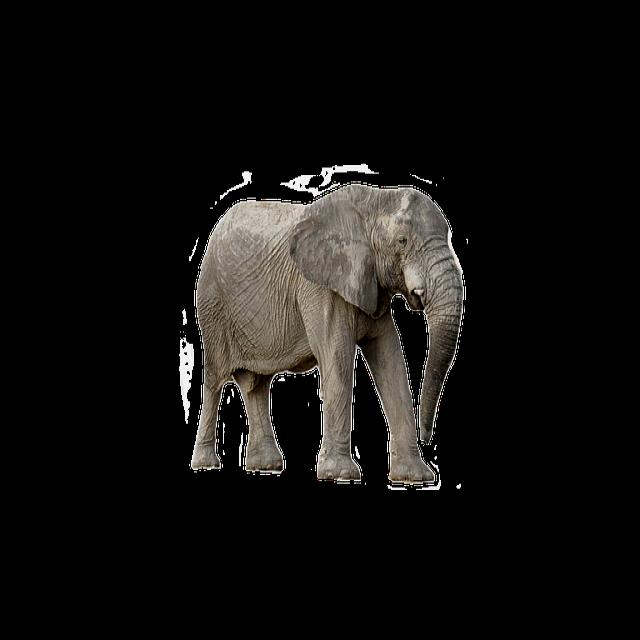FIL: (182, 182, 462, 479)
